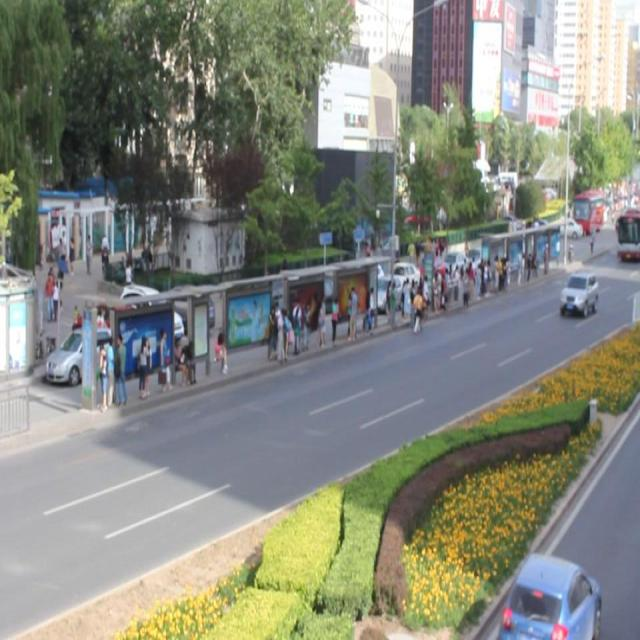car: (560, 272, 596, 316)
